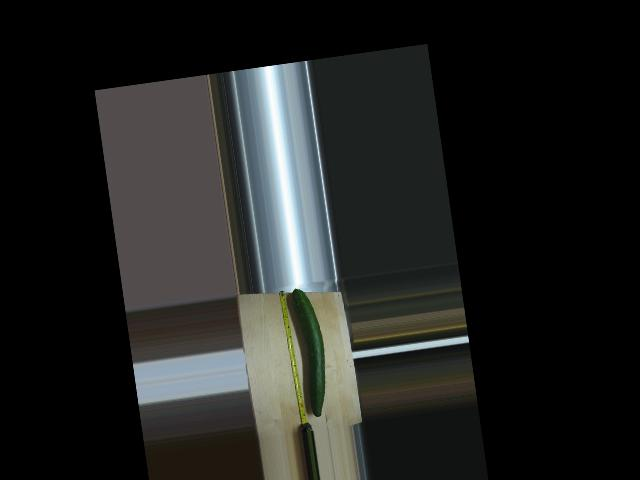cucumber: (290, 286, 333, 418)
